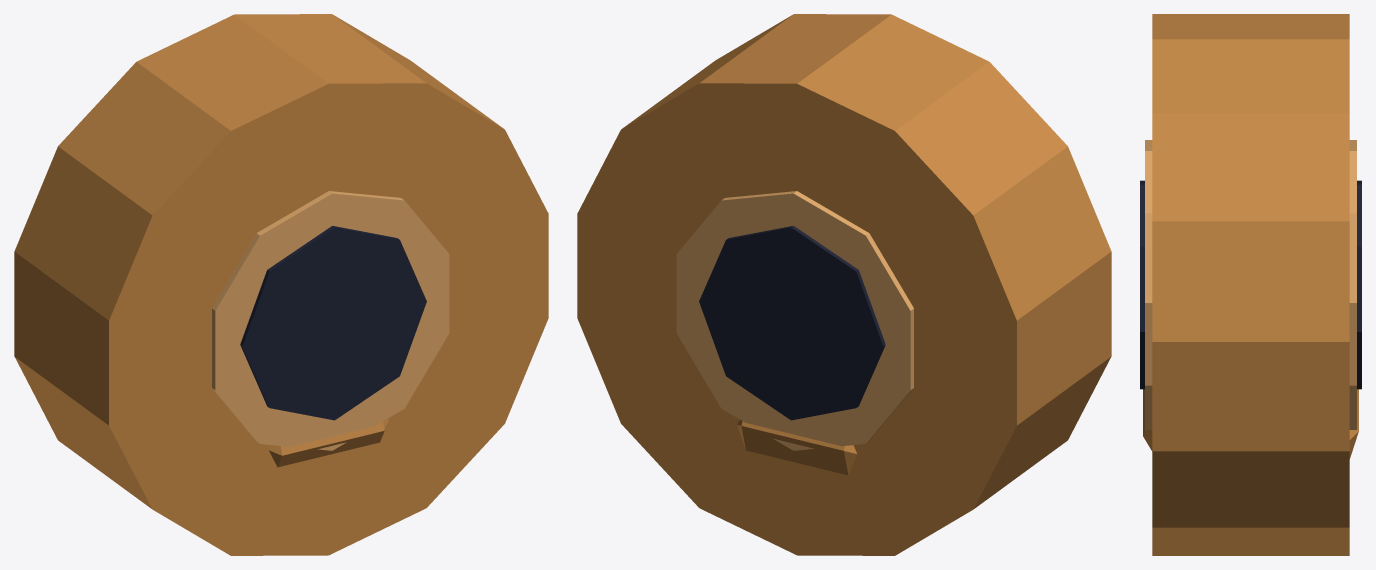
File: sm_env_depot_shop_tape_roll.glb
3 views of the same model, side by side, from view 1: azimuth 30°, elevation 25°; view 2: azimuth 150°, elevation 25°; view 3: azimuth 270°, elevation 25° (orthographic). The views are drawn at different scales.
Visible parts, largest first — view 1: Tape, Hole.001, Core.001, TapeTail; view 2: Tape, Hole, Core, TapeTail; view 3: Tape, Core, Core.001, Hole, Hole.001, TapeTail.
Boxes of the visible parts, bbox=[...] form: Tape: bbox=[14, 14, 548, 555]; Hole.001: bbox=[240, 226, 426, 420]; Core.001: bbox=[212, 191, 449, 450]; TapeTail: bbox=[268, 418, 388, 467]; Tape: bbox=[577, 14, 1111, 555]; Hole: bbox=[699, 226, 885, 420]; Core: bbox=[676, 191, 913, 450]; TapeTail: bbox=[737, 420, 857, 475]; Tape: bbox=[1152, 14, 1349, 555]; Core: bbox=[1349, 140, 1356, 429]; Core.001: bbox=[1145, 140, 1152, 429]; Hole: bbox=[1357, 180, 1361, 389]; Hole.001: bbox=[1140, 180, 1144, 389]; TapeTail: bbox=[1143, 389, 1358, 458].
Size of the model in its own units: 0.2145 by 0.22 by 0.0901.
